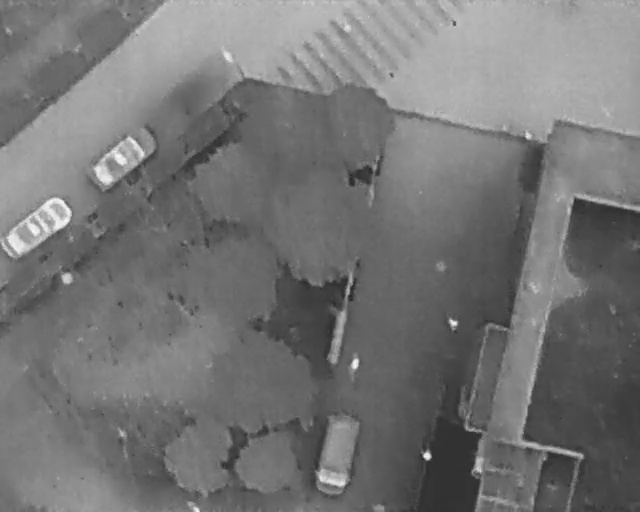Bicycle: (345, 349, 362, 385)
Car: (86, 119, 165, 192), (0, 192, 75, 261)
OtherVehicle: (314, 413, 362, 496)
Person: (448, 313, 460, 336), (422, 449, 433, 462)
